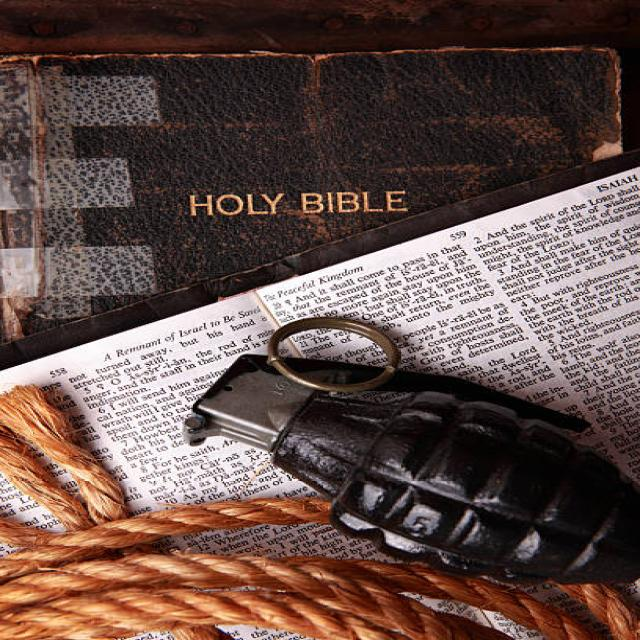grenade: (175, 311, 640, 590)
